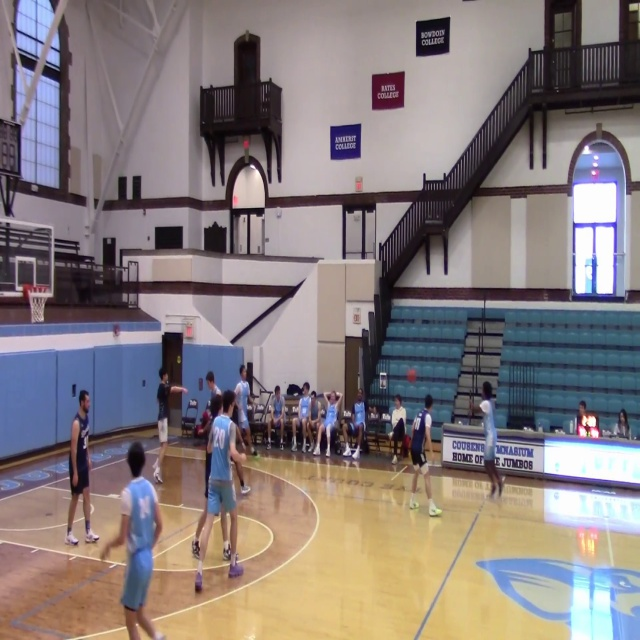Basketball: (407, 368, 416, 382)
